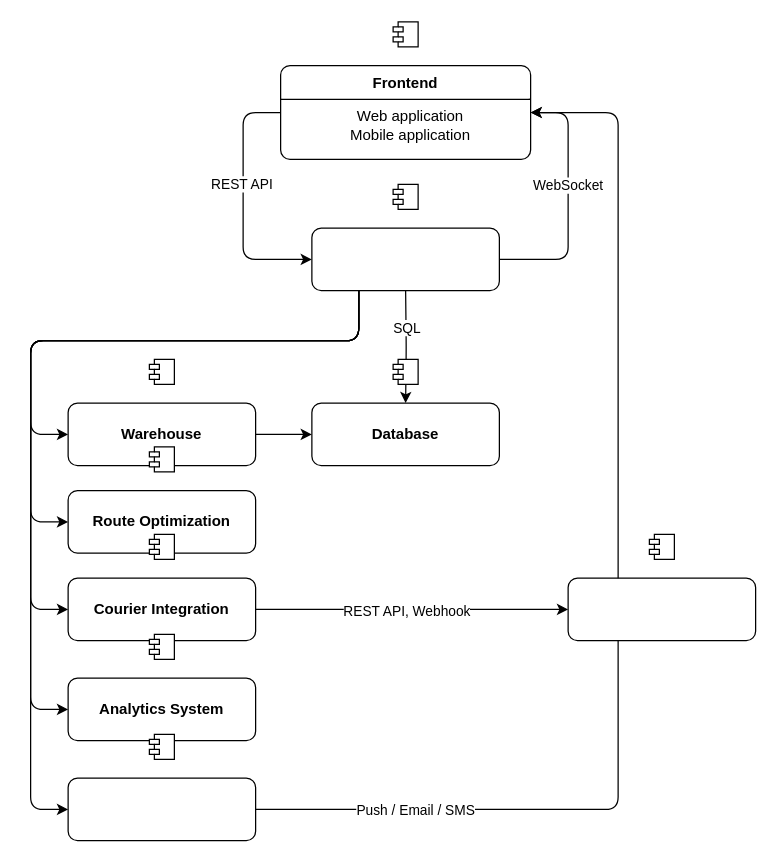
The diagram is 778 pixels wide and 863 high, and some of its shapes have lost their labels. The centre of each missing label's shape, as x and y in pixels:
Backend: point 405,259
Courier API: point 661,609
Notification System: point 161,809
